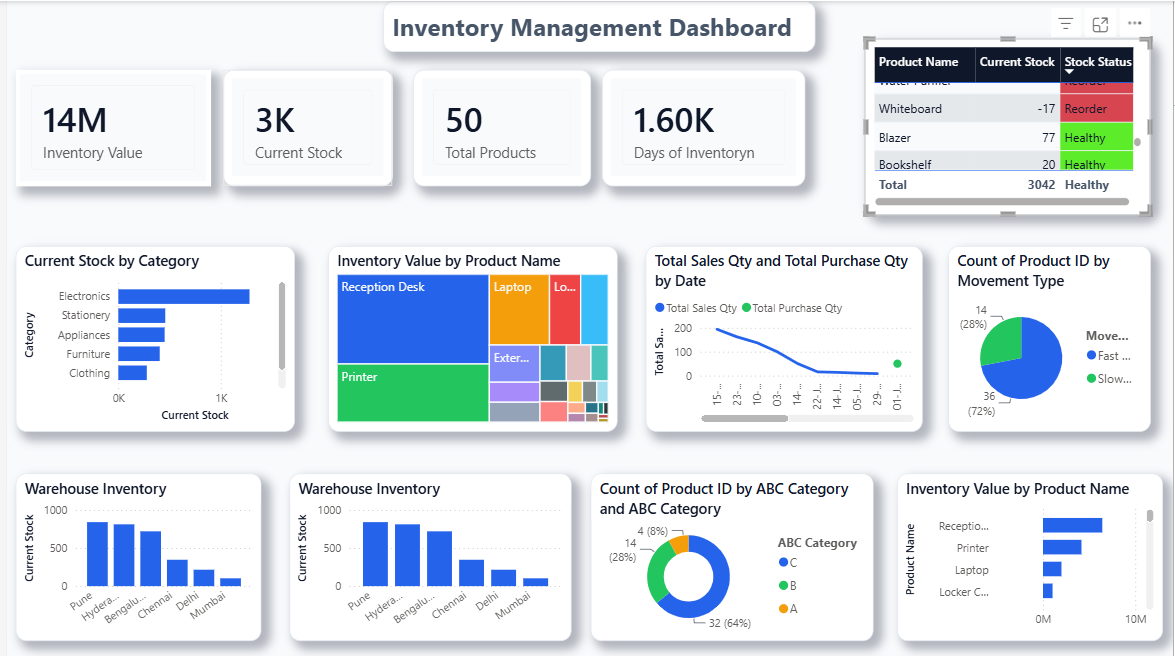

The page's visual inventory and layout, read from the dashboard file:
{"tool":"powerbi","page":{"name":"INVENTORY DASHBOARD","canvas":[1280,720],"ordinal":0},"visuals":[{"type":"textbox","box":[413,0,474.8,56.3],"z":0},{"type":"cardVisual","fields":{"Data":["Measuresx.Inventory Value"]},"box":[9.8,74.8,214.7,127.6],"z":1000},{"type":"cardVisual","fields":{"Data":["Measuresx.Current Stock"]},"box":[236.8,74.8,186.5,127.6],"z":2000},{"type":"cardVisual","fields":{"Data":["Measuresx.Total Products"]},"box":[445.4,74.8,195.1,127.6],"z":3000},{"type":"cardVisual","fields":{"Data":["Measuresx.Days of Inventoryn"]},"box":[652.8,74.8,223.3,127.6],"z":4000},{"type":"clusteredBarChart","fields":{"Category":["Product Master.Category"],"Y":["Measuresx.Current Stock"]},"box":[9.8,268.7,306.8,203.7],"z":5000},{"type":"treemap","fields":{"Group":["Product Master.Product Name"],"Values":["Measuresx.Inventory Value"]},"box":[352.1,268.7,317.8,203.7],"z":6000},{"type":"lineChart","fields":{"Category":["Inventory Transactions.Date"],"Y":["Measuresx.Total Sales Qty","Measuresx.Total Purchase Qty"]},"box":[700.6,268.7,304.3,203.7],"z":7000},{"type":"clusteredColumnChart","title":"Warehouse Inventory","fields":{"Category":["Inventory Transactions.Warehouse"],"Y":["Measuresx.Current Stock"]},"box":[9.8,519,269.9,184.1],"z":8000},{"type":"clusteredColumnChart","title":"Warehouse Inventory","fields":{"Category":["Inventory Transactions.Warehouse"],"Y":["Measuresx.Current Stock"]},"box":[310.4,519,309.2,184.1],"z":9000},{"type":"donutChart","fields":{"Category":["Product Master.ABC Category"],"Series":["Product Master.ABC Category"],"Y":["CountNonNull(Product Master.Product ID)"]},"box":[640.5,519,310.4,184.1],"z":10000},{"type":"pieChart","fields":{"Category":["Product Master.Movement Type"],"Y":["CountNonNull(Product Master.Product ID)"]},"box":[1033.1,268.7,222.1,203.7],"z":11000},{"type":"tableEx","fields":{"Values":["Product Master.Product Name","Measuresx.Current Stock","Measuresx.Stock Status"]},"box":[941.1,41.7,314.1,193.9],"z":12000},{"type":"barChart","fields":{"Y":["Measuresx.Inventory Value"],"Category":["Product Master.Product Name"]},"box":[976.7,519,292,184.1],"z":13000}]}

Visuals, with their boxes in screenshot pixels (x1, y1, x2, y2), scaled from the page's 1280x720 canvas onto the 1175x656 screenshot:
textbox: bbox=[379, 0, 815, 51]
cardVisual - Measuresx.Inventory Value: bbox=[9, 68, 206, 184]
cardVisual - Measuresx.Current Stock: bbox=[217, 68, 389, 184]
cardVisual - Measuresx.Total Products: bbox=[409, 68, 588, 184]
cardVisual - Measuresx.Days of Inventoryn: bbox=[599, 68, 804, 184]
clusteredBarChart - Product Master.Category x Measuresx.Current Stock: bbox=[9, 245, 291, 430]
treemap - Product Master.Product Name x Measuresx.Inventory Value: bbox=[323, 245, 615, 430]
lineChart - Inventory Transactions.Date x Measuresx.Total Sales Qty: bbox=[643, 245, 922, 430]
"Warehouse Inventory" clusteredColumnChart: bbox=[9, 473, 257, 641]
"Warehouse Inventory" clusteredColumnChart: bbox=[285, 473, 569, 641]
donutChart - Product Master.ABC Category x Product Master.ABC Category: bbox=[588, 473, 873, 641]
pieChart - Product Master.Movement Type x CountNonNull(Product Master.Product ID): bbox=[948, 245, 1152, 430]
tableEx - Product Master.Product Name x Measuresx.Current Stock: bbox=[864, 38, 1152, 215]
barChart - Measuresx.Inventory Value x Product Master.Product Name: bbox=[897, 473, 1165, 641]
